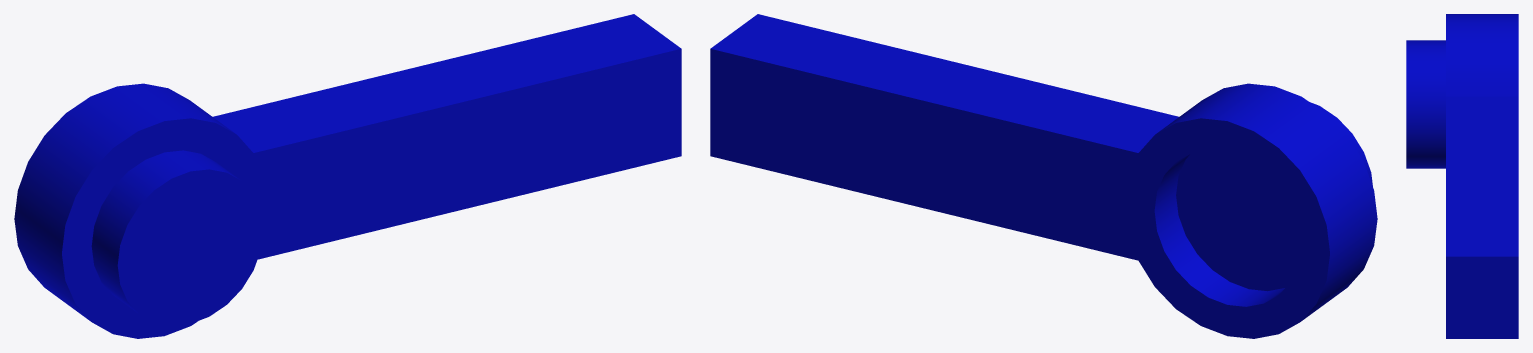
Rendered from hinge_part_b.obj.
The picture shows the model from 3 angles, left to right: view 1: azimuth 30°, elevation 25°; view 2: azimuth 150°, elevation 25°; view 3: azimuth 270°, elevation 25°; orthographic projection. The views are drawn at different scales.
Visible parts, largest first — view 1: hinge_part_b_Circle.001; view 2: hinge_part_b_Circle.001; view 3: hinge_part_b_Circle.001.
Part boxes in pixels (bbox=[...]): hinge_part_b_Circle.001: bbox=[14, 14, 681, 338]; hinge_part_b_Circle.001: bbox=[710, 14, 1377, 338]; hinge_part_b_Circle.001: bbox=[1406, 14, 1518, 338].
Size of the model in its own units: 0.6033 by 0.2 by 0.1238.
